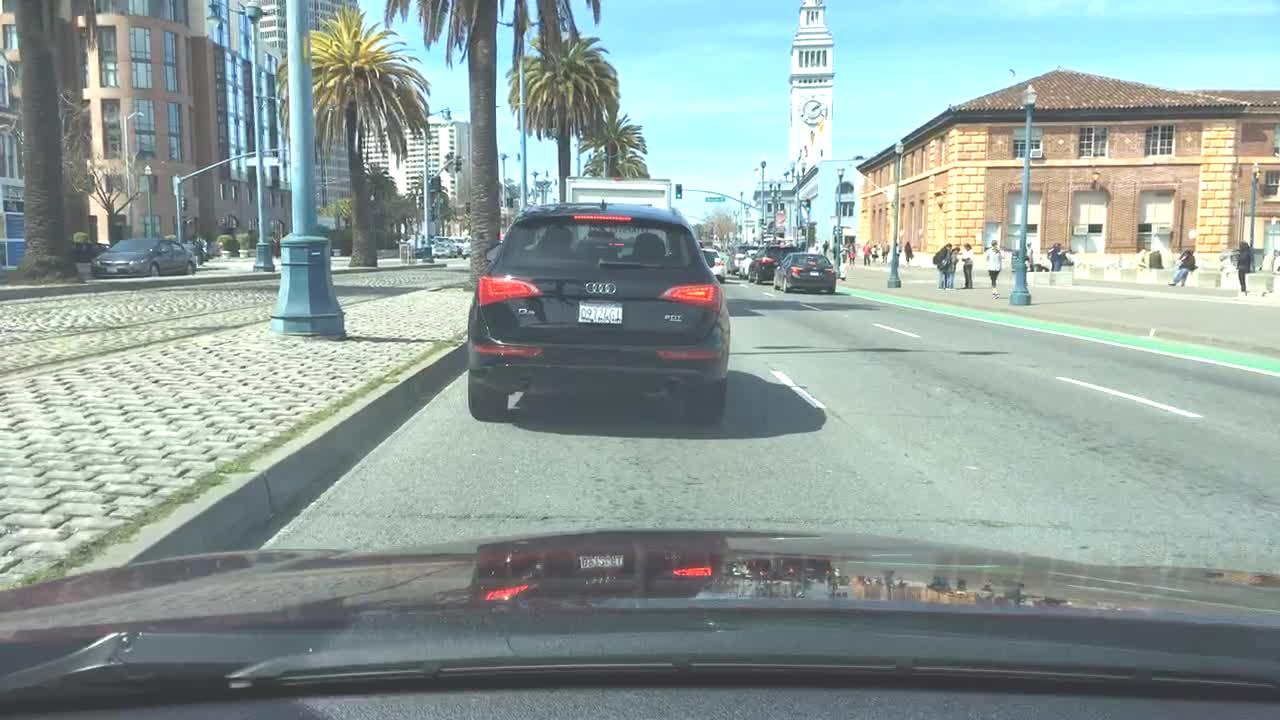Audi: (574, 276, 632, 300)
